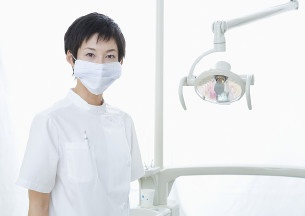Mask: (72, 44, 119, 92)
